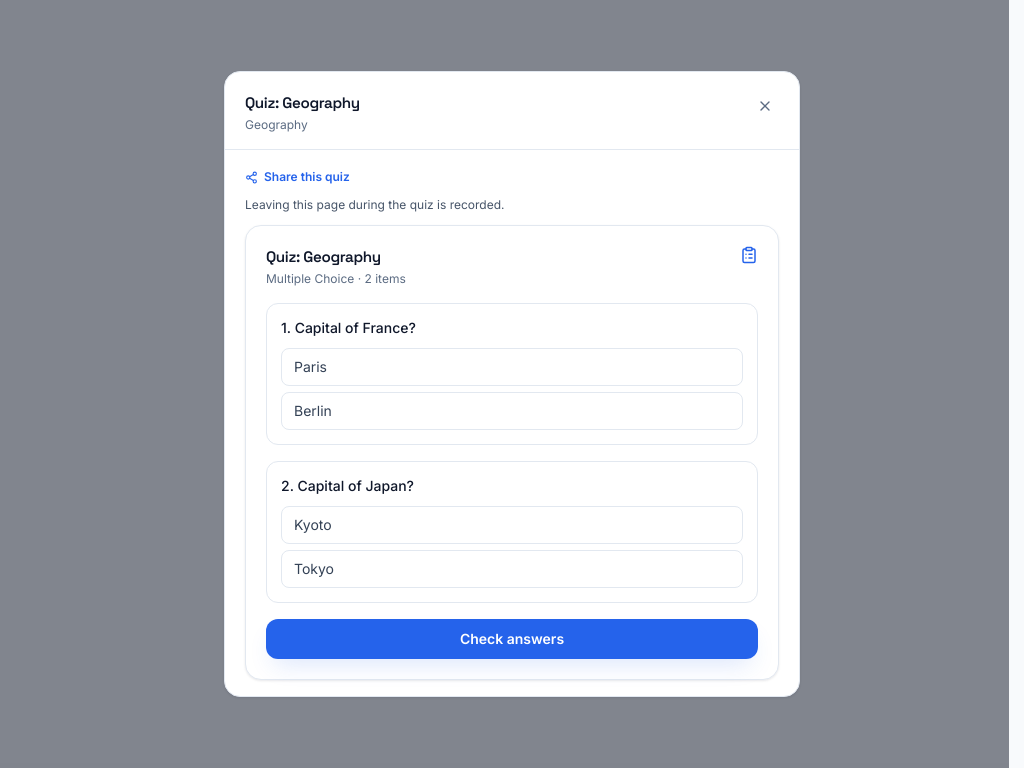
it: QuizRunner — tab switches › stops recording once the quiz is submitted
Expected: the text "1. Capital of France?" is shown, [281,319,416,336]
Click the button "Berlin".
click(313, 411)  # box [281,392,743,430]
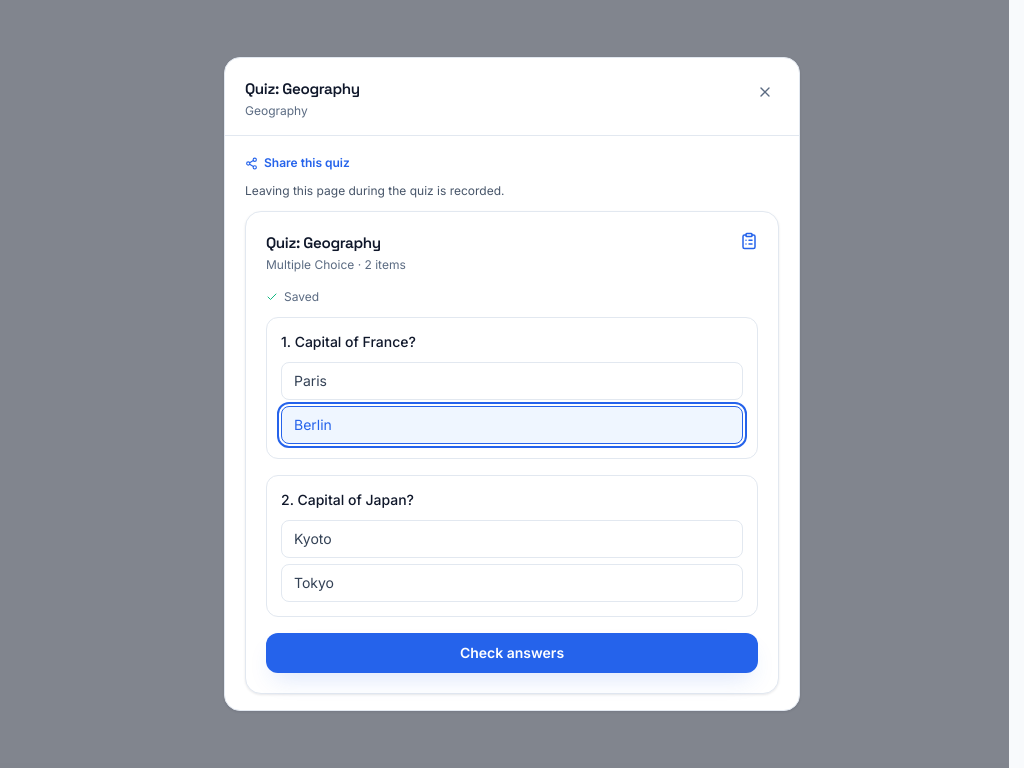
Click the button "Tokyo".
click(314, 583)  # box [281,564,743,602]
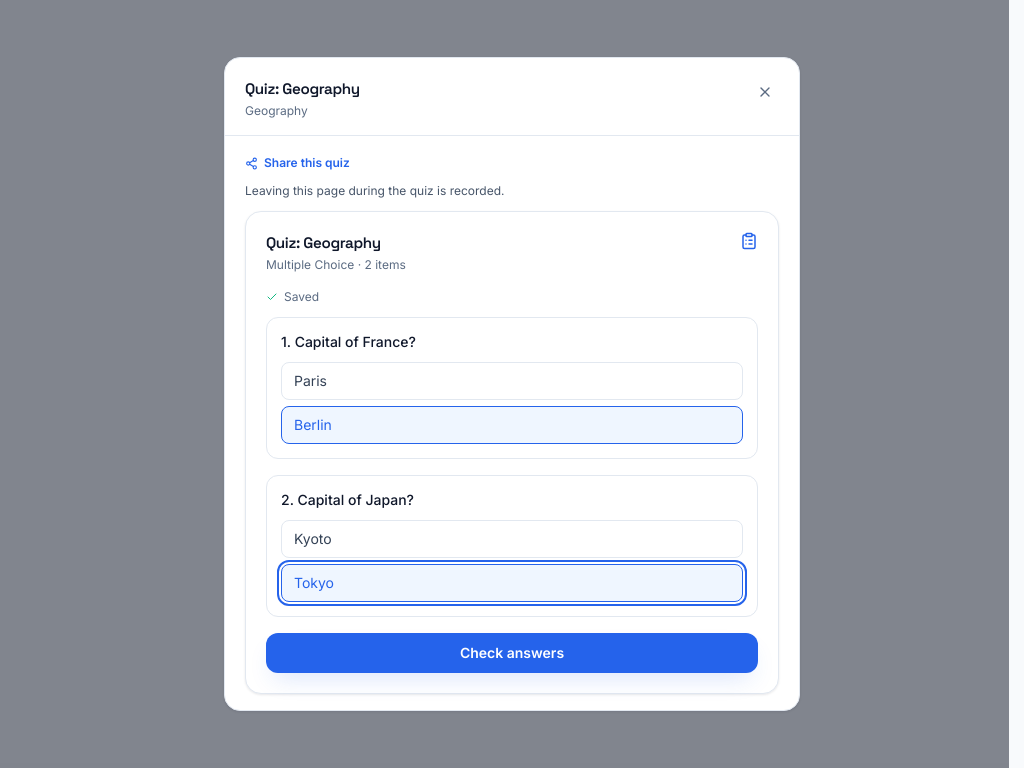
Click the button "Check answers".
click(512, 653)  # box [266,633,758,673]
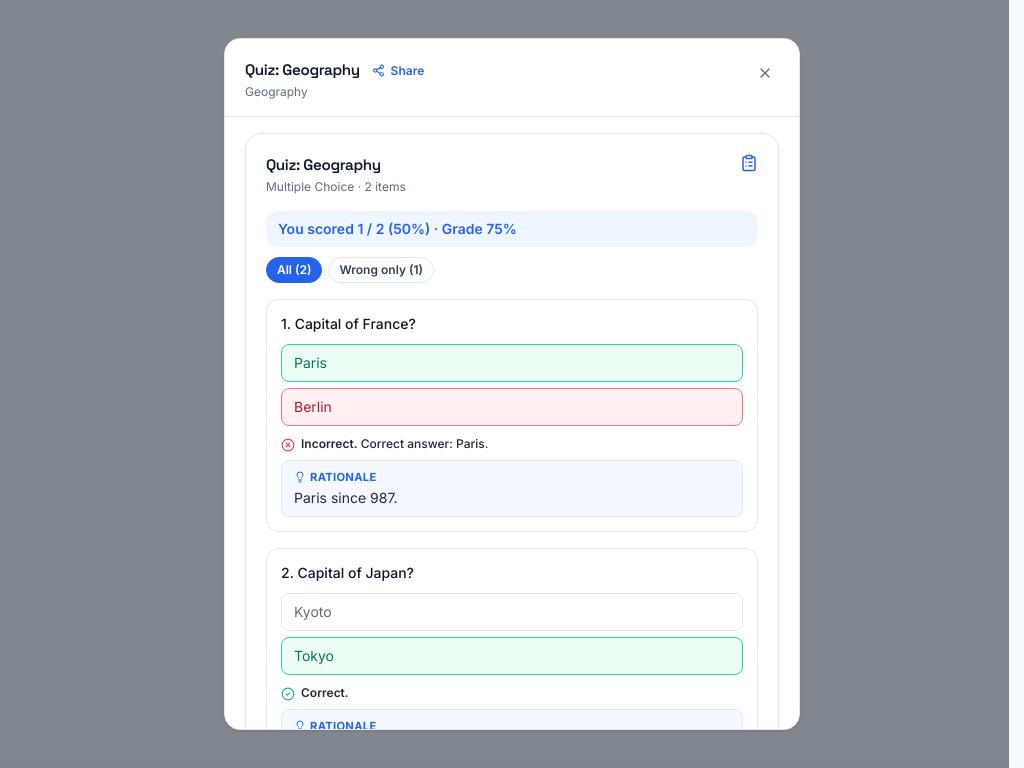
Result: the text "You scored 1 / 2 (50%) · Grade 75%" is shown at [266,211,758,247]
